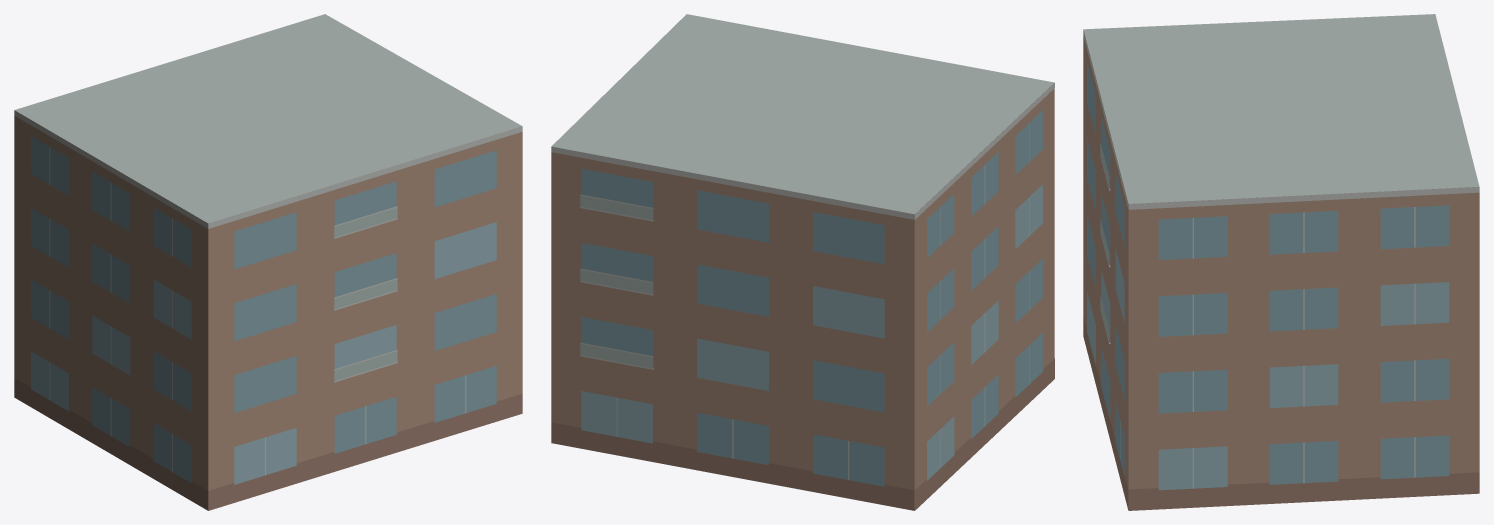
The model's file is survey-upis-32797685.glb.
3 views of the same model, side by side, from view 1: azimuth 30°, elevation 25°; view 2: azimuth 150°, elevation 25°; view 3: azimuth 270°, elevation 25° (orthographic). The views are drawn at different scales.
Visible parts, largest first — view 1: survey-upis-32797685.tmp; view 2: survey-upis-32797685.tmp; view 3: survey-upis-32797685.tmp.
Boxes of the visible parts, x1,y1,x2,y2 form: survey-upis-32797685.tmp: (14,14,522,510); survey-upis-32797685.tmp: (551,14,1054,510); survey-upis-32797685.tmp: (1083,14,1479,510).
Size of the model in its own units: 17.14 by 12.9 by 15.11.
